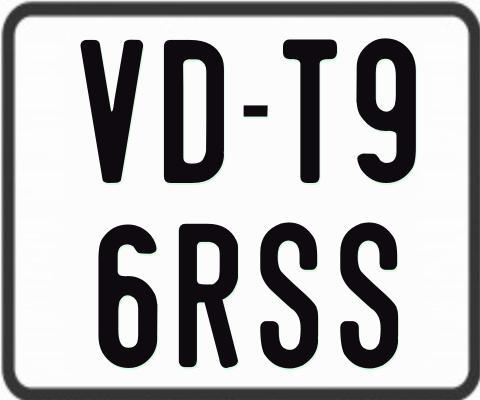6: (95, 224, 156, 370)
9: (354, 36, 419, 184)
D: (161, 37, 221, 183)
R: (178, 221, 240, 366)
S: (340, 221, 404, 372), (257, 223, 320, 372)
T: (283, 39, 341, 182)
V: (80, 37, 142, 185)
